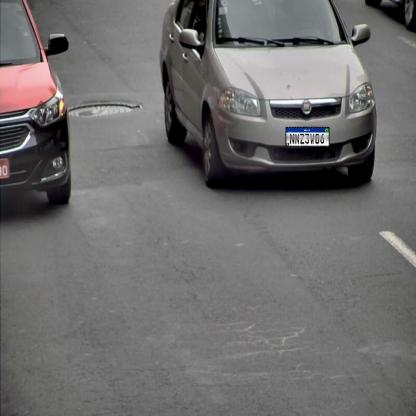PlacaM: (286, 127, 330, 147)
